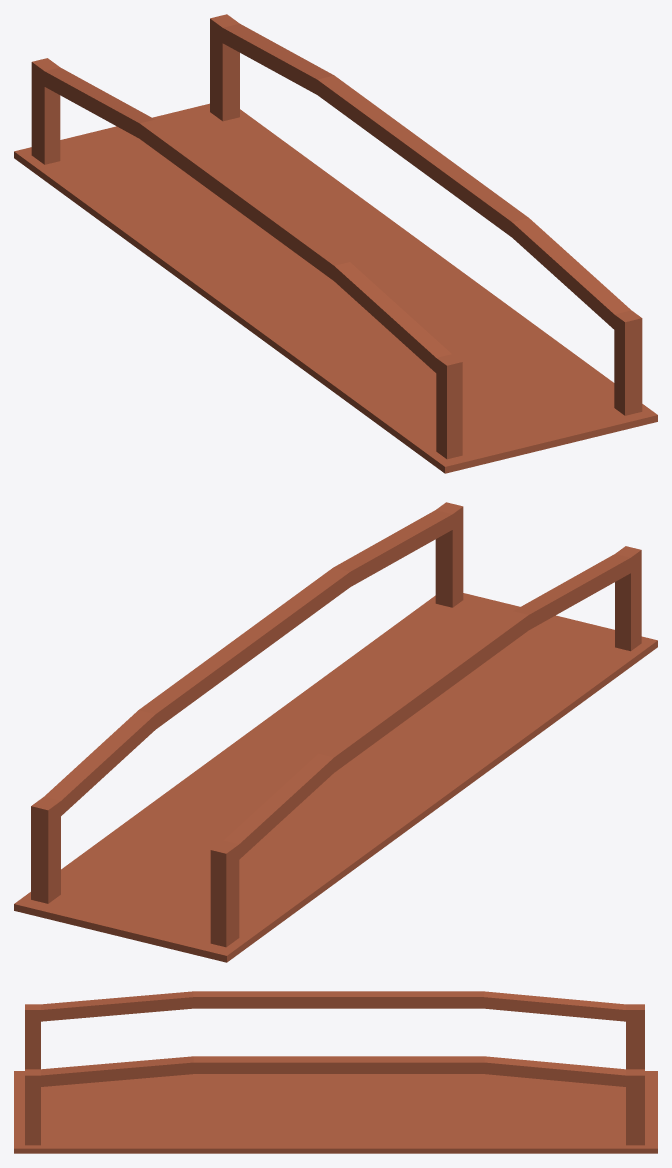
Rendered from JambBridge01.fbx.
3 views of the same model, one above another, from view 1: azimuth 30°, elevation 25°; view 2: azimuth 150°, elevation 25°; view 3: azimuth 270°, elevation 25° (orthographic). The views are drawn at different scales.
Parts seen in each view (by area): view 1: Plane; view 2: Plane; view 3: Plane.
Boxes of the visible parts, x1,y1,x2,y2 form: Plane: [14, 14, 657, 473]; Plane: [14, 502, 657, 962]; Plane: [14, 991, 657, 1153].
Bounding box in the file's own units: 7421 × 3924 × 26028.
